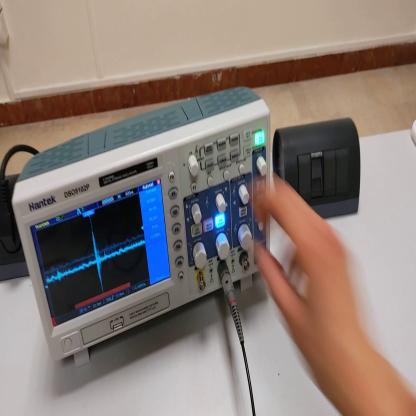hand: (250, 171, 367, 384)
oscilloscope: (10, 84, 272, 368)
socket: (2, 176, 30, 283)
